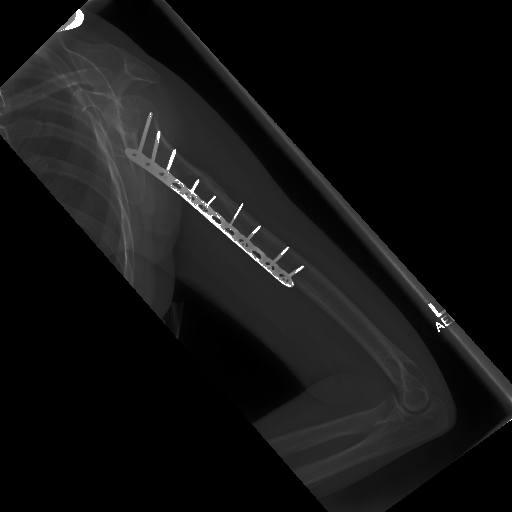implant: (123, 108, 306, 290)
